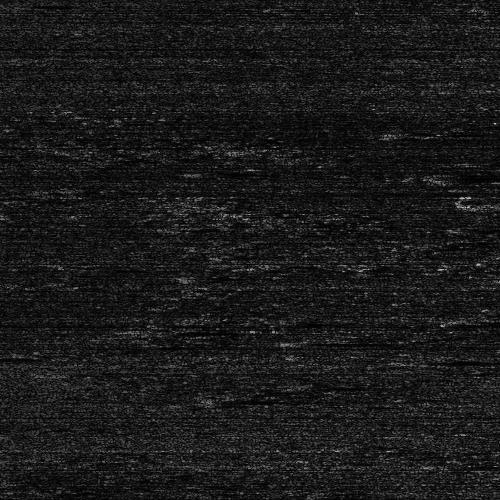object: (396, 171, 459, 180), (260, 338, 323, 345)
shadow: (292, 338, 405, 345), (428, 171, 489, 180), (0, 355, 41, 360)
